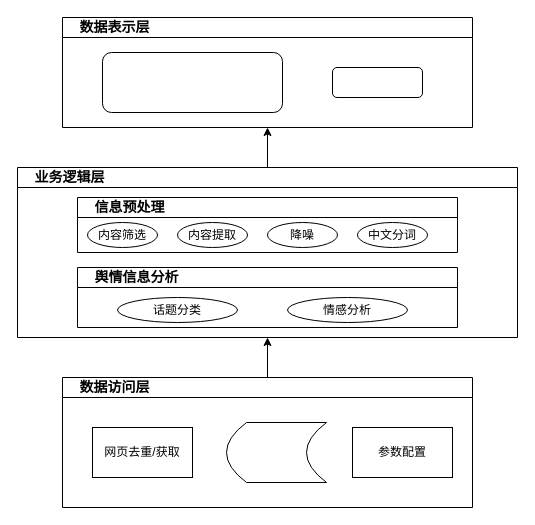
This 535x525 diagram has some shape labels left out. Here are the shapes that lost their labels. From the top down, the centre of each, then its label:
At (192,82): "舆情信息展示".
At (377,82): "用户登录/注册".
At (276,452): "数据存储".
